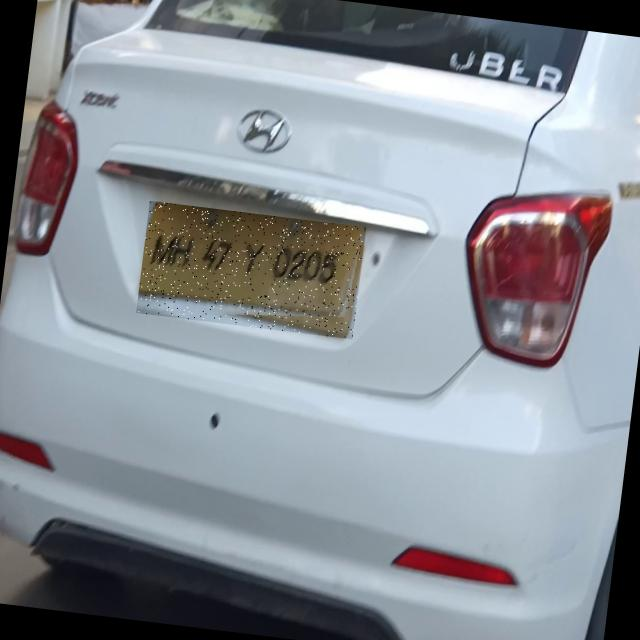Plate: (137, 201, 367, 340)
